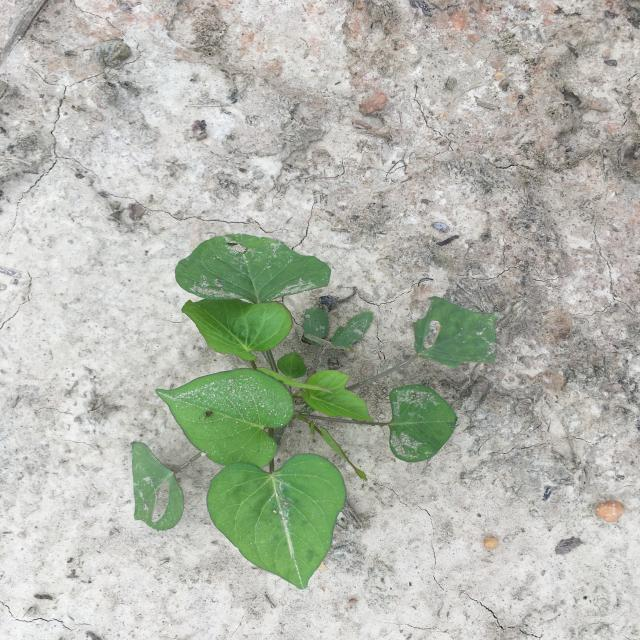MorningGlory: (131, 232, 500, 590)
